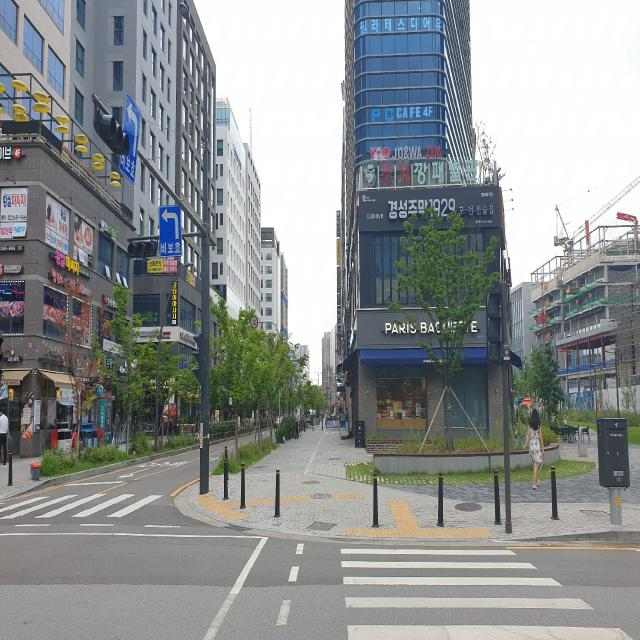횡단보도: (338, 543, 636, 640), (0, 480, 166, 532)
